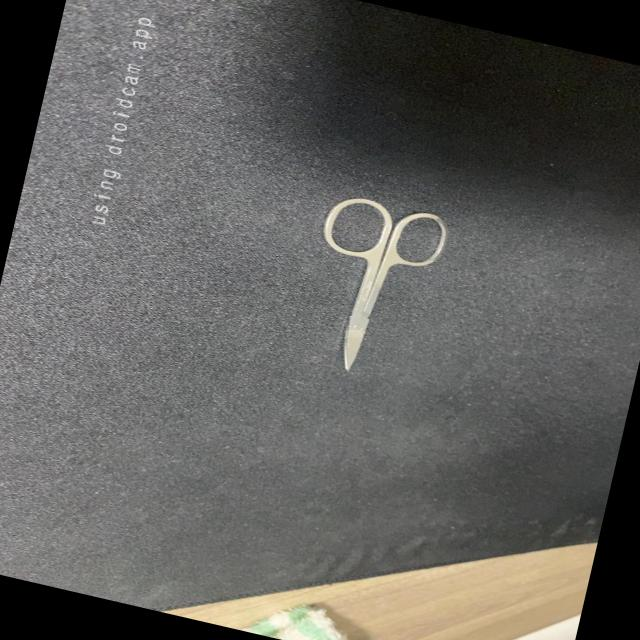scissor: (289, 186, 458, 390)
